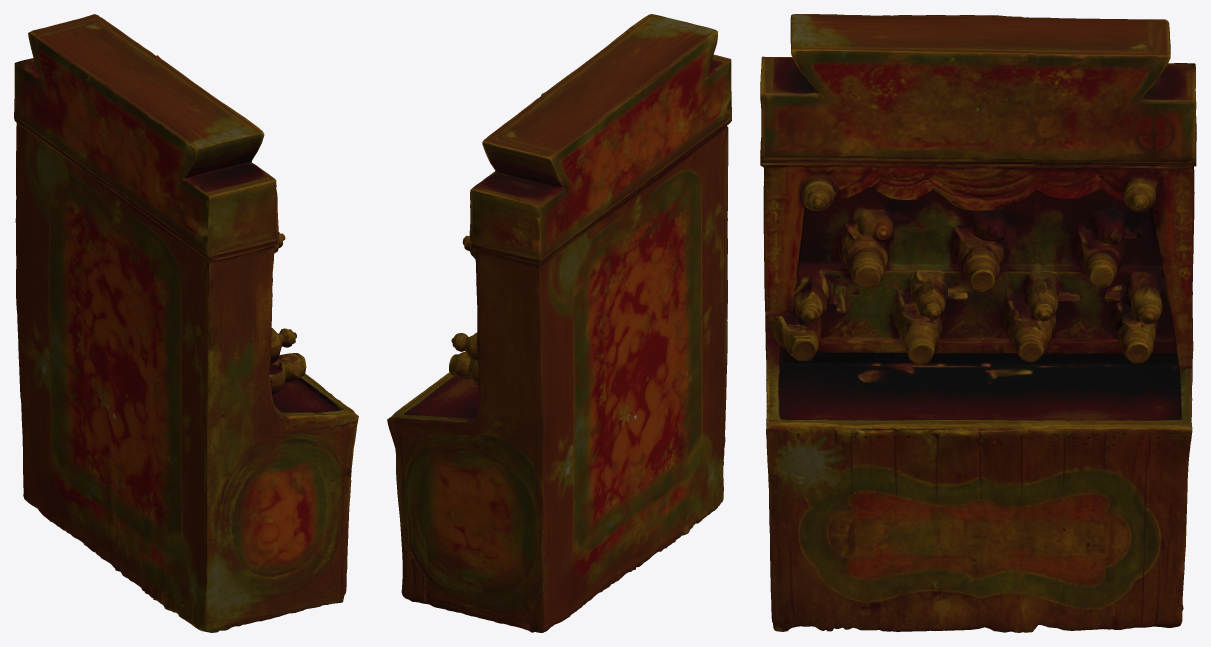
Rendered from JuegoPato.fbx.
3 views of the same model, side by side, from view 1: azimuth 30°, elevation 25°; view 2: azimuth 150°, elevation 25°; view 3: azimuth 270°, elevation 25° (orthographic). The views are drawn at different scales.
Visible parts, largest first — view 1: tripo_node_3a8537b8; view 2: tripo_node_3a8537b8; view 3: tripo_node_3a8537b8.
Boxes of the visible parts, <box> form: tripo_node_3a8537b8: <box>14,14,358,632</box>; tripo_node_3a8537b8: <box>387,14,731,632</box>; tripo_node_3a8537b8: <box>760,14,1196,632</box>.
Bounding box in the file's own units: 0.3405 × 0.9999 × 0.7276.
Materials: 1 (1 with a texture image).
